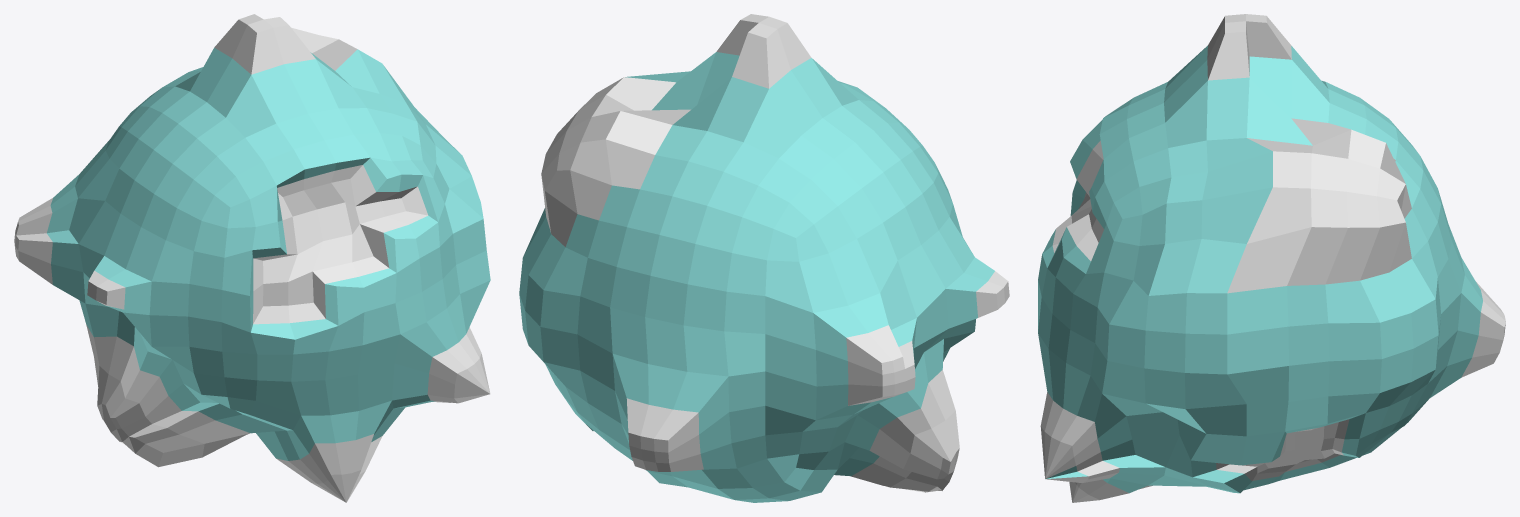
The model's file is IcePlanet.fbx.
3 renders of one model, left to right at view 1: azimuth 30°, elevation 25°; view 2: azimuth 150°, elevation 25°; view 3: azimuth 270°, elevation 25°, orthographic. The views are drawn at different scales.
Parts seen in each view (by area): view 1: Cube.001; view 2: Cube.001; view 3: Cube.001.
Boxes of the visible parts, box(x1,y1,x2,y2) form: Cube.001: box(14, 14, 490, 502); Cube.001: box(519, 14, 1009, 502); Cube.001: box(1038, 14, 1505, 502).
Bounding box in the file's own units: 197 × 213 × 188.
